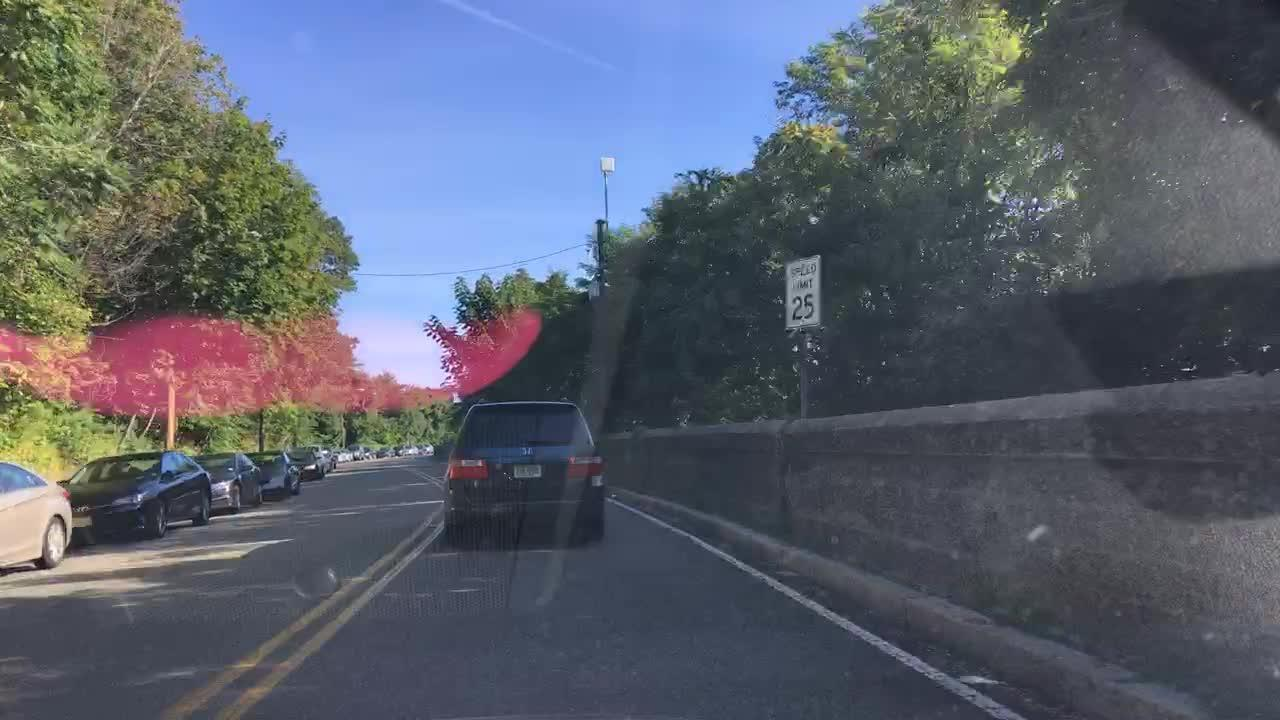Honda: (519, 447, 533, 459)
Hyundai: (71, 504, 96, 517)
